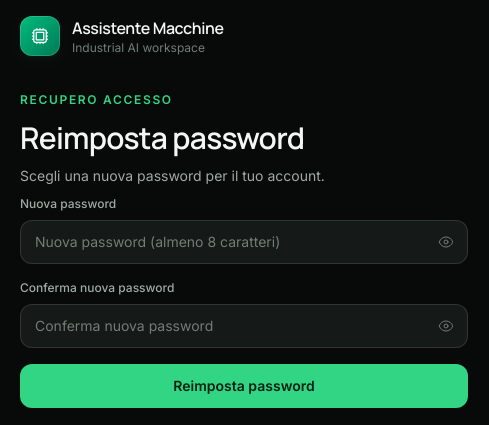
Test case: pagina di reset password › invia il token e la nuova password e mostra la conferma
Type "BrandNewPass456" into the password field with placeholder "Nuova password (almeno 8 caratteri)" at (244, 242), box [20, 220, 468, 264]
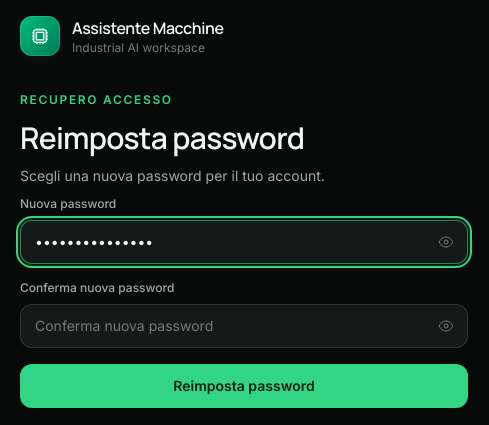
Type "BrandNewPass456" into the password field with placeholder "Conferma nuova password" at (244, 326), box [20, 304, 468, 348]
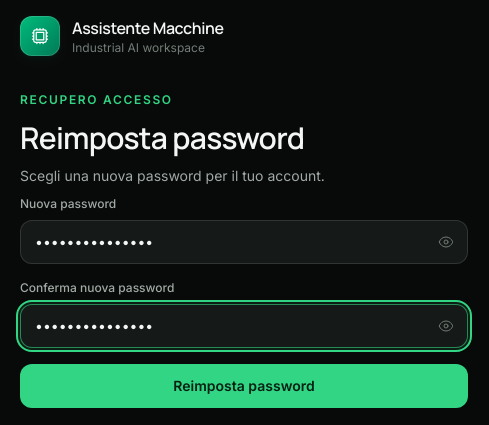
Click the button "Reimposta password" at (244, 386), box [20, 364, 468, 408]
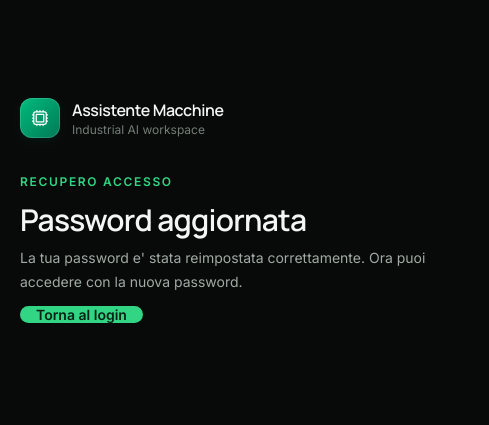
Result: the heading "Password aggiornata" is shown at [20, 199, 306, 240]
